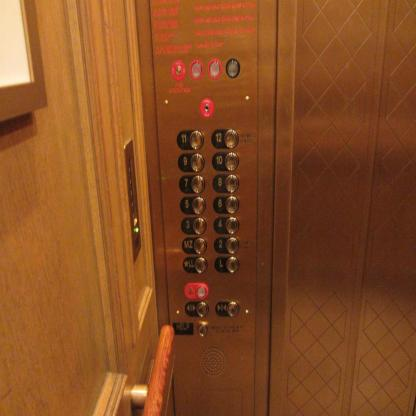10: (211, 152, 238, 171)
11: (176, 130, 204, 150)
12: (211, 128, 239, 149)
2: (214, 236, 239, 253)
3: (181, 216, 206, 235)
4: (213, 216, 239, 234)
5: (180, 196, 206, 214)
6: (213, 196, 239, 214)
7: (179, 174, 205, 193)
8: (212, 174, 239, 192)
9: (178, 152, 204, 172)
L: (214, 256, 239, 273)
MZ: (182, 236, 206, 254)
alarm: (184, 282, 208, 299)
blur: (225, 58, 240, 78), (196, 321, 209, 337)
close: (216, 300, 240, 316)
keyhole: (170, 60, 186, 80), (200, 98, 214, 117)
open: (185, 301, 209, 317)
sLL: (182, 256, 208, 273)
text_help: (172, 321, 194, 335)
unknown: (189, 59, 204, 80), (208, 58, 223, 78)
